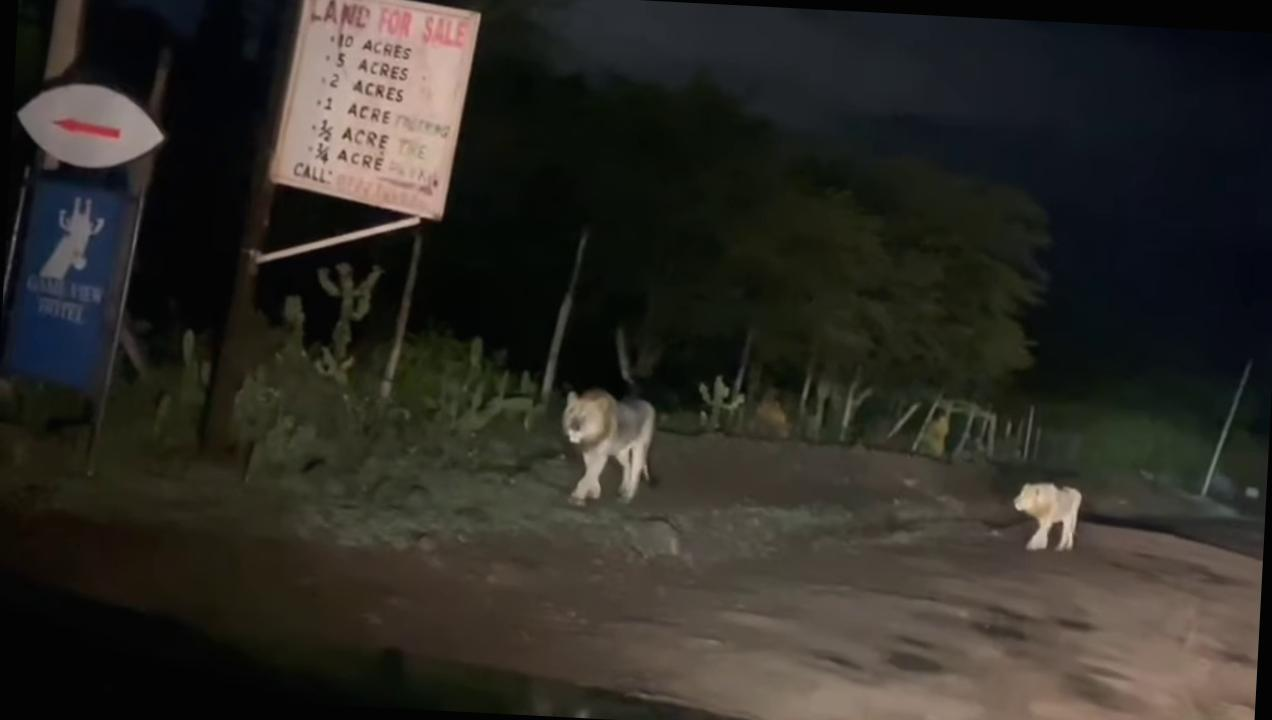lions: (981, 447, 1120, 585), (548, 373, 685, 507)
